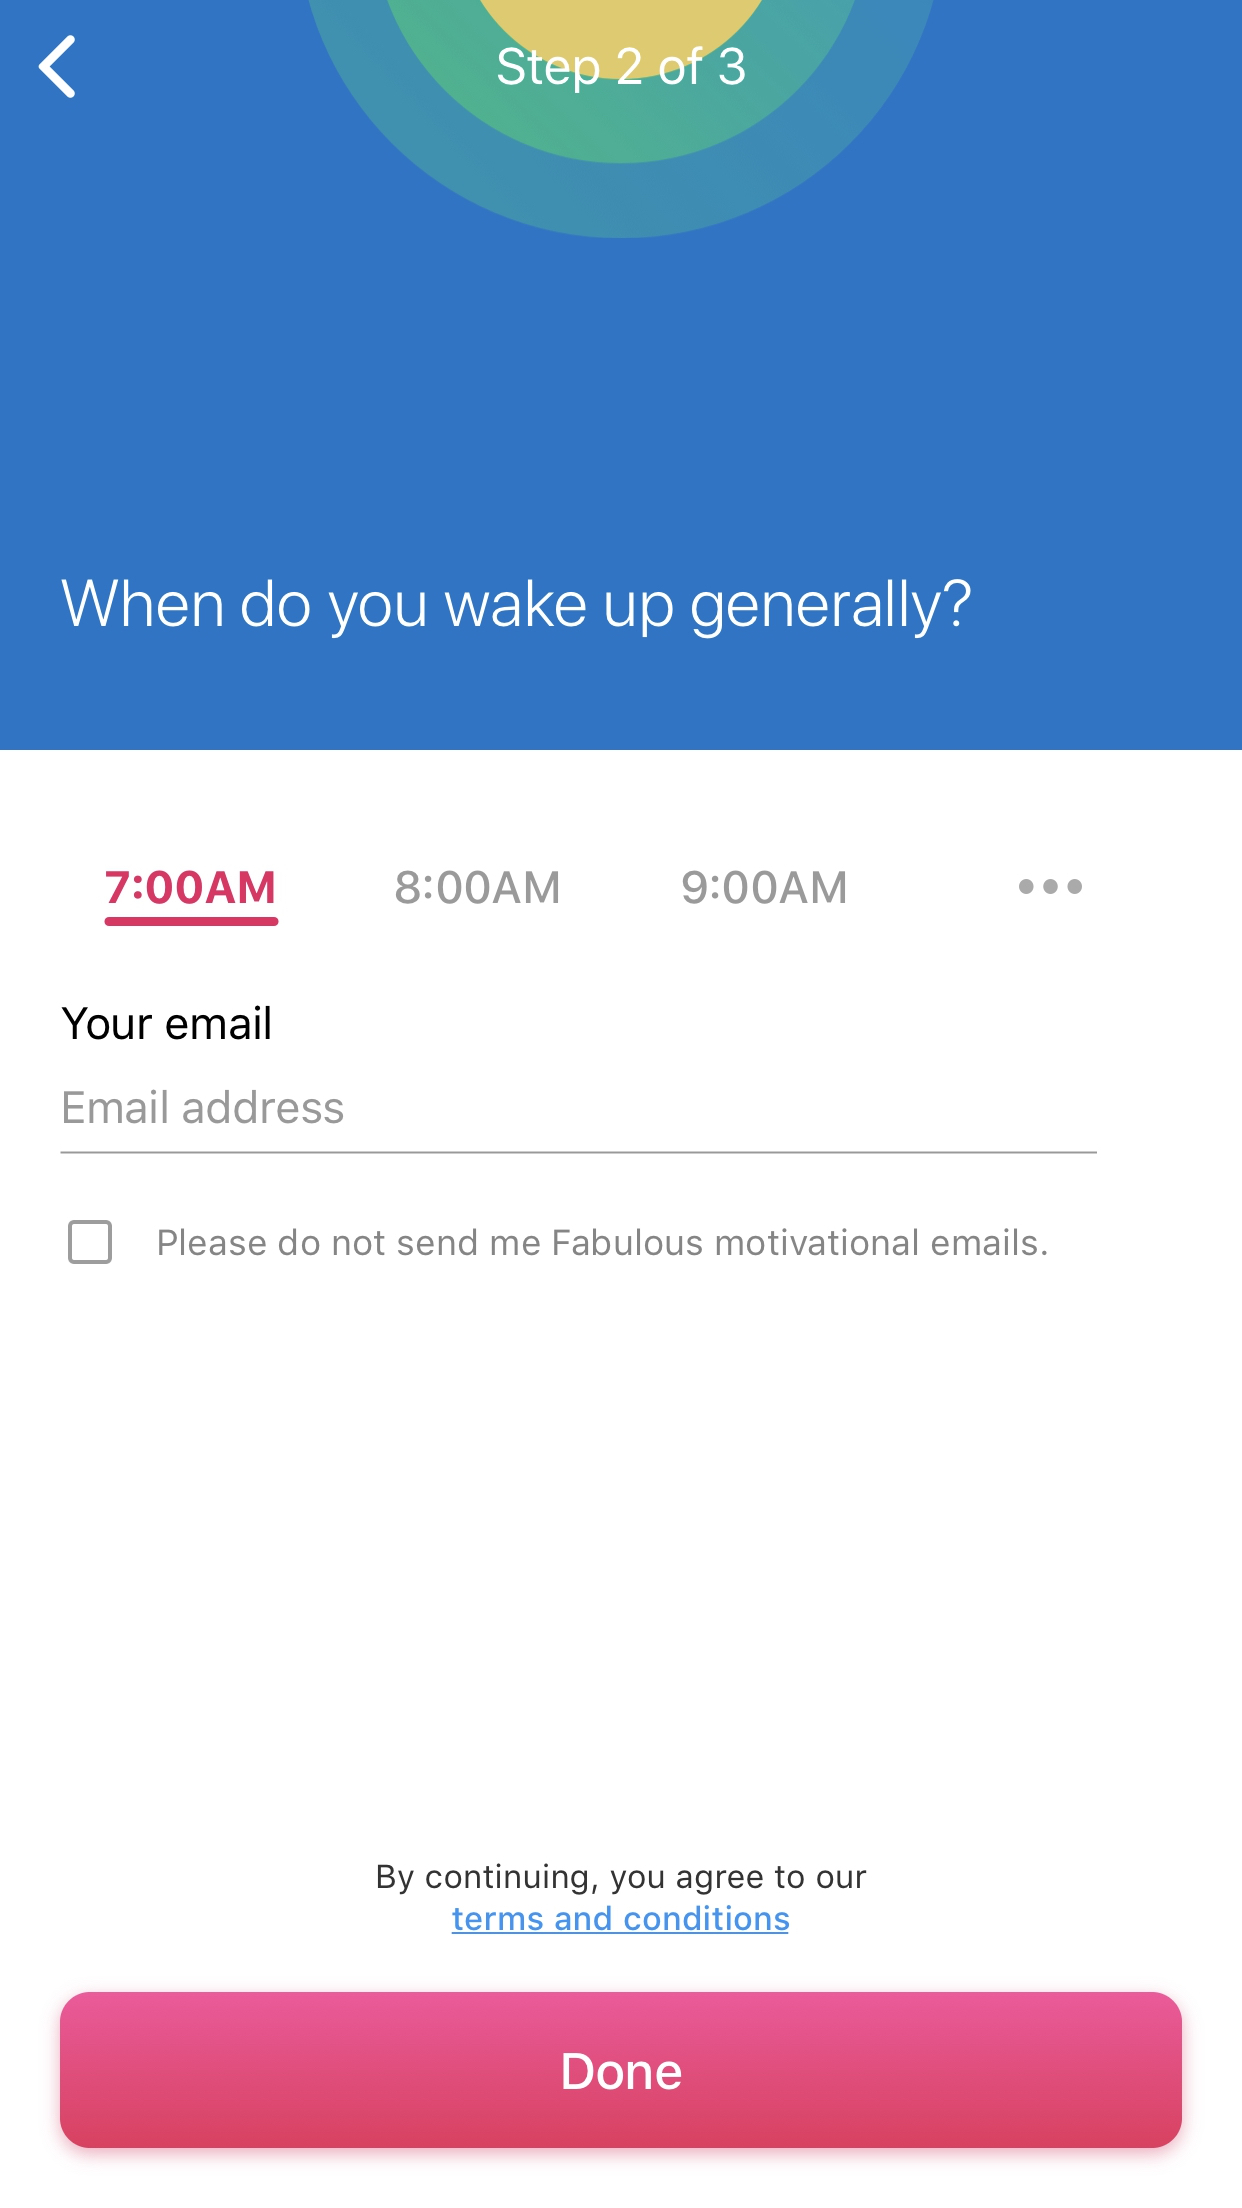Checkbox: (68, 1219, 114, 1265)
EditText: (61, 1089, 1098, 1156)
Icon: (38, 35, 77, 100), (1018, 878, 1083, 896)
Image: (2, 2, 1237, 751)
Text: (61, 579, 972, 640), (378, 1862, 867, 1935), (159, 1228, 1048, 1257), (497, 45, 746, 96), (64, 1089, 344, 1125), (106, 870, 281, 927), (62, 1005, 271, 1042), (682, 870, 848, 905), (396, 870, 560, 905)
TextButton: (61, 1993, 1183, 2149)
